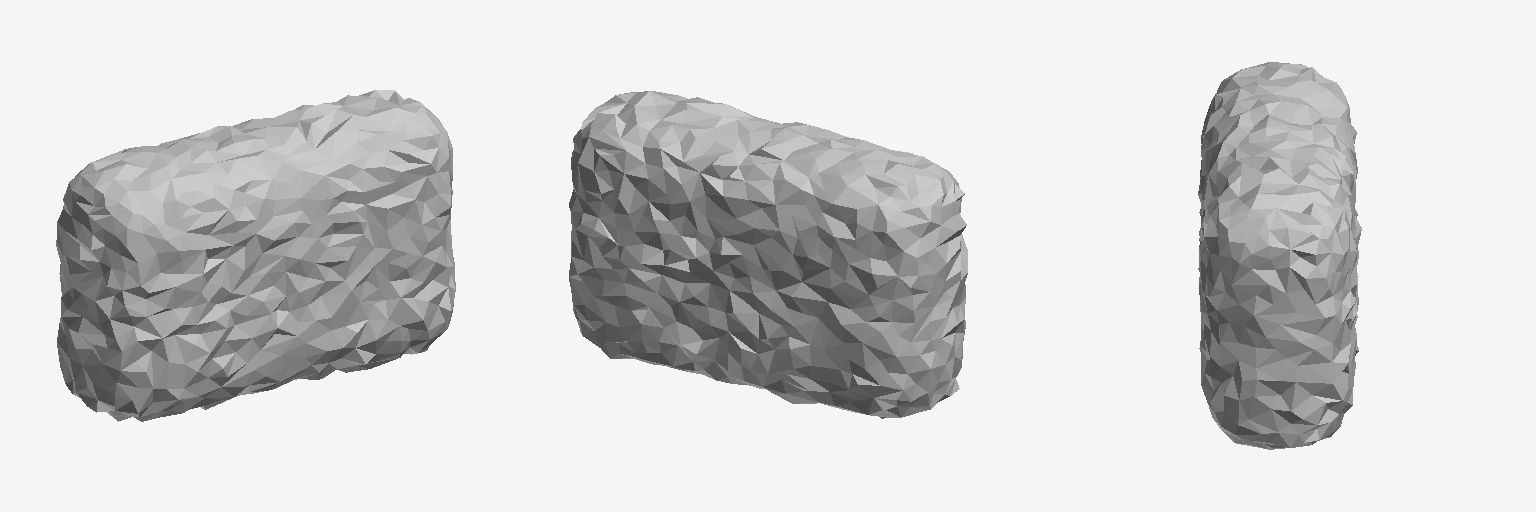
The model's file is hedgeTextured.obj.
3 views of the same model, side by side, from view 1: azimuth 30°, elevation 25°; view 2: azimuth 150°, elevation 25°; view 3: azimuth 270°, elevation 25° (orthographic).
Parts seen in each view (by area): view 1: Cube.001; view 2: Cube.001; view 3: Cube.001.
Boxes of the visible parts, <box> form: Cube.001: <box>56,90,455,421</box>; Cube.001: <box>569,91,967,418</box>; Cube.001: <box>1198,62,1361,449</box>.
Bounding box in the file's own units: 151 × 98.86 × 57.93.